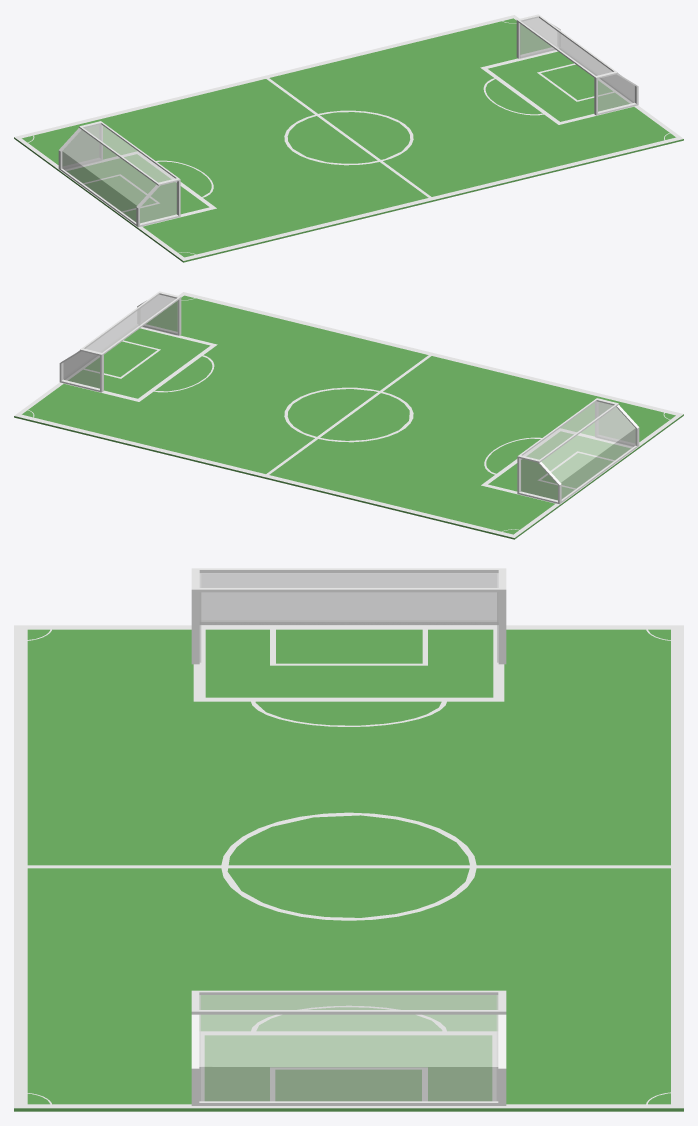
The model's file is soccer_field.fbx.
3 views of the same model, one above another, from view 1: azimuth 30°, elevation 25°; view 2: azimuth 150°, elevation 25°; view 3: azimuth 270°, elevation 25° (orthographic). The views are drawn at different scales.
Visible parts, largest first — view 1: field, goal-01, goal-02; view 2: field, goal-01, goal-02; view 3: field, goal-02, goal-01.
Boxes of the visible parts, <box> form: field: <box>14,15,683,262</box>; goal-01: <box>58,121,180,227</box>; goal-02: <box>516,14,638,115</box>; field: <box>14,292,683,539</box>; goal-01: <box>517,398,639,504</box>; goal-02: <box>59,291,181,392</box>; field: <box>14,625,683,1111</box>; goal-02: <box>191,990,506,1105</box>; goal-01: <box>191,568,506,664</box>.
Bounding box in the file's own units: 2440 × 187 × 1430.
